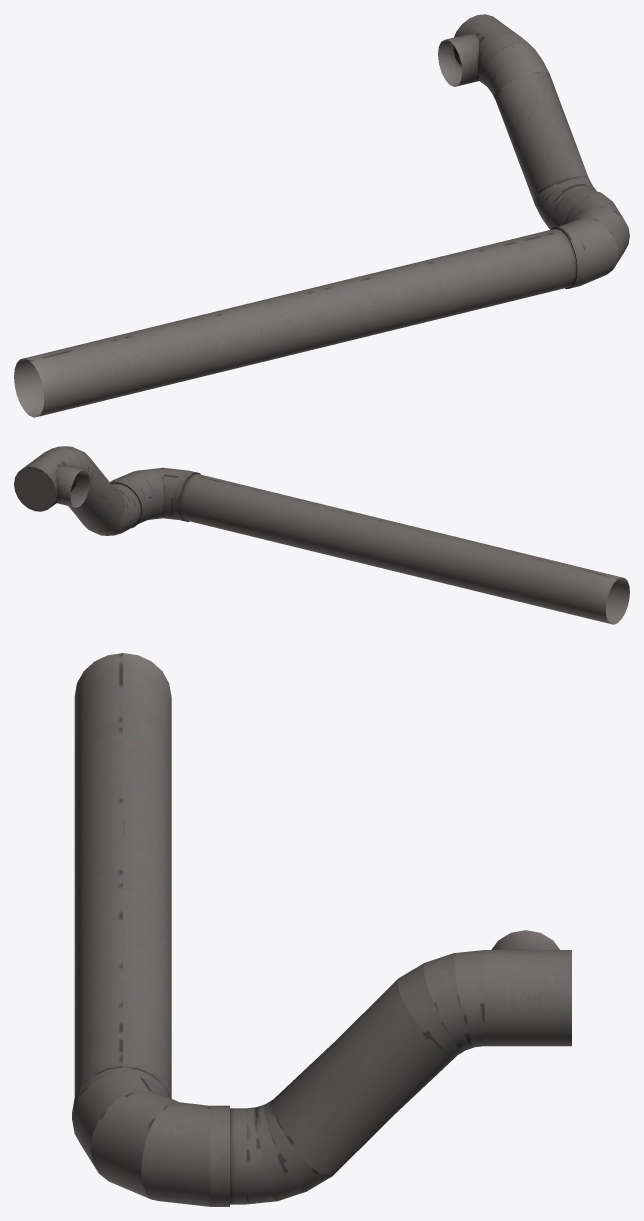
3 views of the same model, one above another, from view 1: azimuth 30°, elevation 25°; view 2: azimuth 150°, elevation 25°; view 3: azimuth 270°, elevation 25° (orthographic). The views are drawn at different scales.
Parts seen in each view (by area): view 1: body0_model0_lod0_mesh0; view 2: body0_model0_lod0_mesh0; view 3: body0_model0_lod0_mesh0.
Boxes of the visible parts, x1=… form: body0_model0_lod0_mesh0: x1=14, y1=14, x2=629, y2=417; body0_model0_lod0_mesh0: x1=14, y1=446, x2=629, y2=624; body0_model0_lod0_mesh0: x1=72, y1=653, x2=571, y2=1206.
Size of the model in its own units: 469 by 113 by 206.
Materials: 1 (1 with a texture image).
